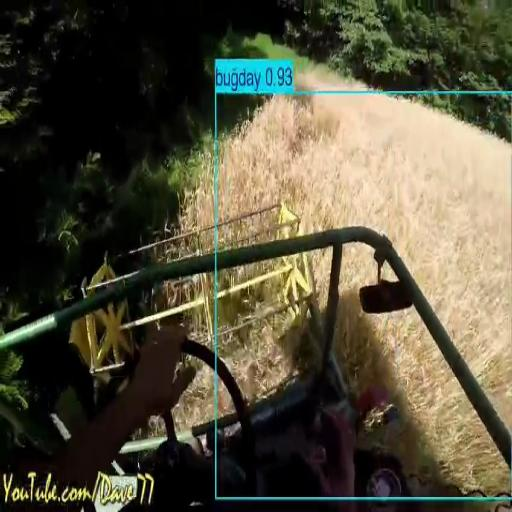bugday: (219, 95, 511, 428), (334, 245, 508, 493), (223, 316, 287, 397)
